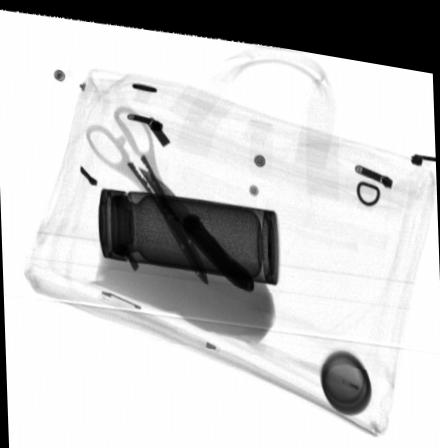Knife: (135, 160, 254, 281)
Scissors: (84, 99, 208, 278)
